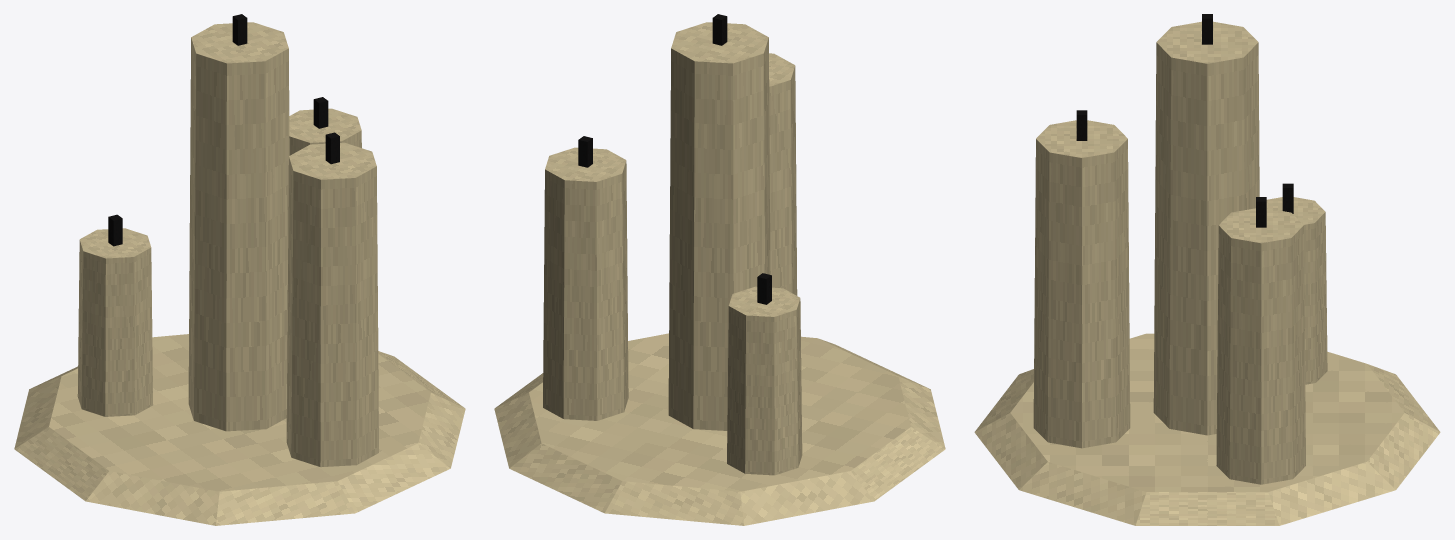
Rendered from CandlesOut.glb.
3 renders of one model, left to right at view 1: azimuth 30°, elevation 25°; view 2: azimuth 150°, elevation 25°; view 3: azimuth 270°, elevation 25°, orthographic.
Parts seen in each view (by area): view 1: CandlesOut; view 2: CandlesOut; view 3: CandlesOut.
Part boxes in pixels (x1=…): CandlesOut: x1=14, y1=14, x2=465, y2=525; CandlesOut: x1=494, y1=14, x2=945, y2=525; CandlesOut: x1=974, y1=14, x2=1440, y2=525.
Size of the model in its own units: 0.2473 by 0.256 by 0.26.
Materials: 1 (1 with a texture image).
